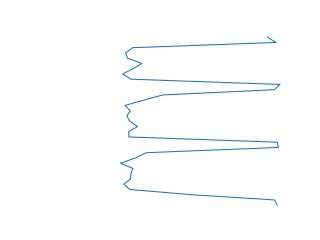majorRiverChannelBar: (117, 35, 283, 206)
